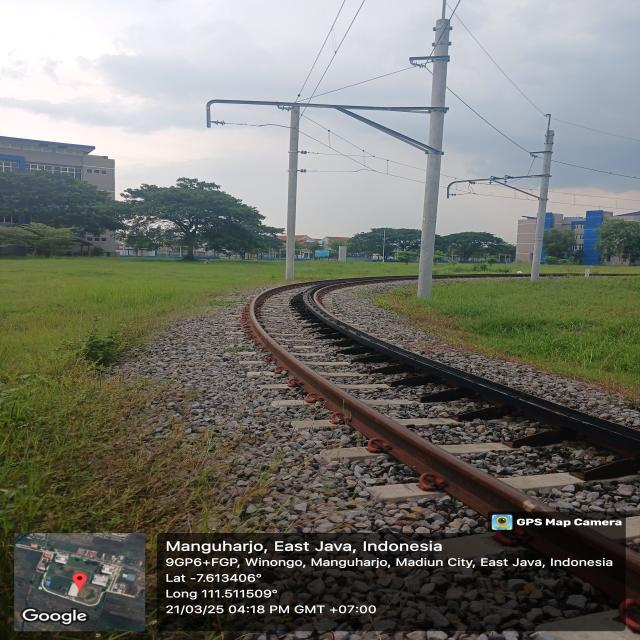rail-detection: (249, 283, 570, 520), (301, 277, 640, 465), (527, 521, 640, 622)
